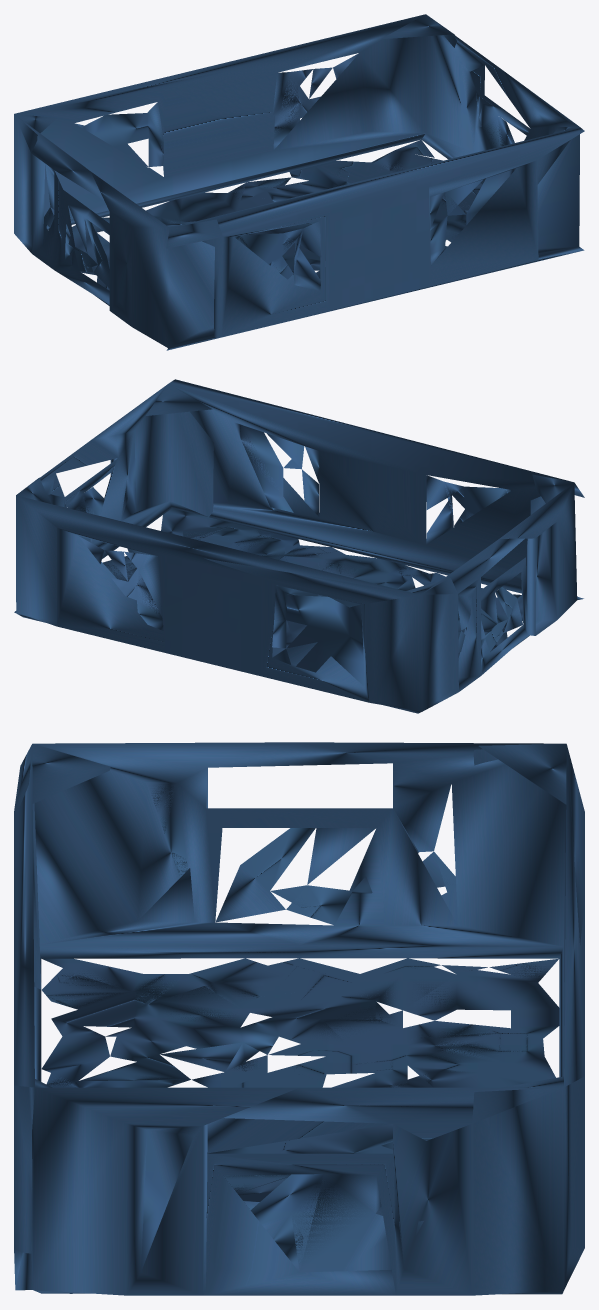
File: tote.glb
The picture shows the model from 3 angles, top to bottom: view 1: azimuth 30°, elevation 25°; view 2: azimuth 150°, elevation 25°; view 3: azimuth 270°, elevation 25°; orthographic projection. The views are drawn at different scales.
Visible parts, largest first — view 1: body; view 2: body; view 3: body.
Part boxes in pixels (box(x1,y1,x2,y2)): body: box(14, 14, 584, 350); body: box(14, 379, 584, 713); body: box(14, 742, 584, 1295).
Bounding box in the file's own units: 0.6051 × 0.1689 × 0.4051.
1 material, 1 textured.
